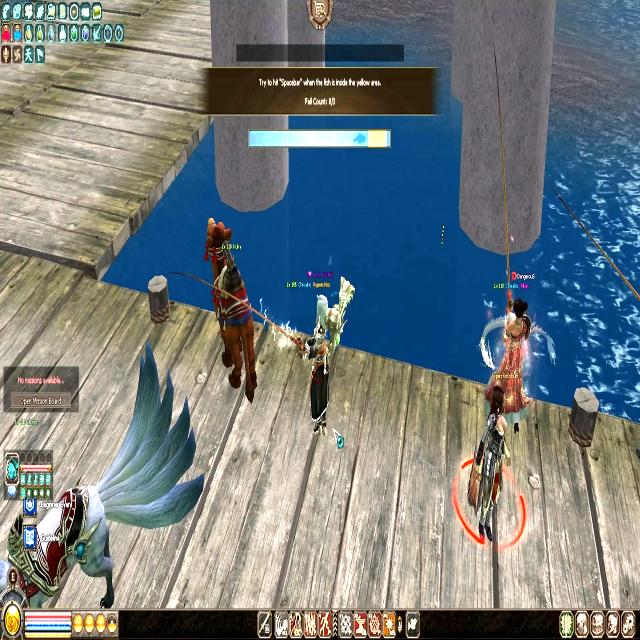fishes: (352, 132, 368, 146)
